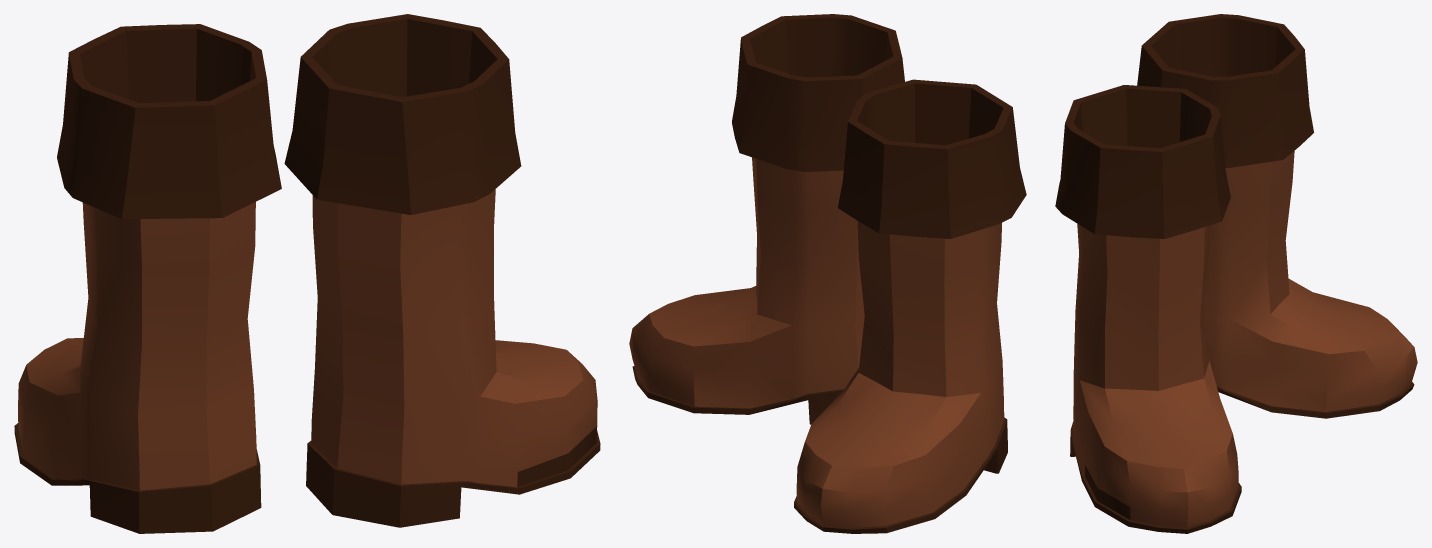
The model's file is Botas.fbx.
3 views of the same model, side by side, from view 1: azimuth 30°, elevation 25°; view 2: azimuth 150°, elevation 25°; view 3: azimuth 270°, elevation 25° (orthographic). The views are drawn at different scales.
Visible parts, largest first — view 1: Botas; view 2: Botas; view 3: Botas.
Boxes of the visible parts, x1,y1,x2,y2 form: Botas: [14, 14, 600, 533]; Botas: [629, 14, 1026, 533]; Botas: [1055, 14, 1417, 533].
Size of the model in its own units: 154 by 129 by 125.
